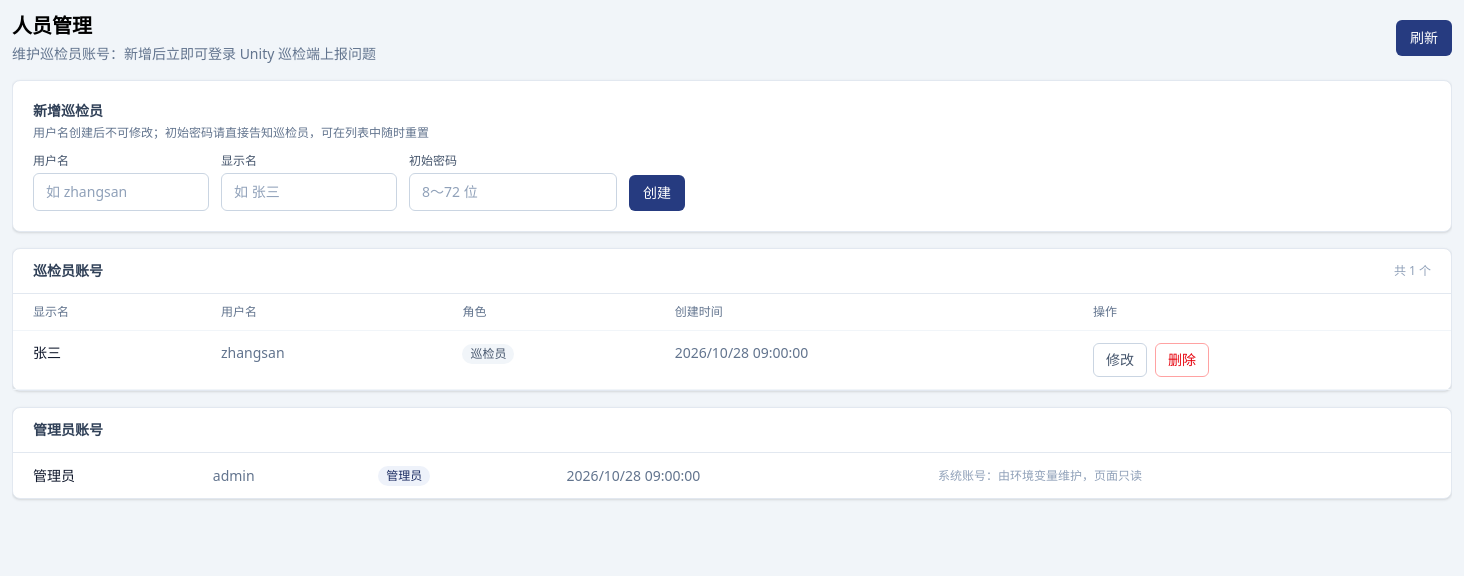
Test: 修改巡检员 › 显示名与密码都为空时本地拦截，不发请求
The width and height of the screenshot is (1464, 576).
Expected: the text "zhangsan" is shown, [205,330,446,390]
Click the button "修改" at (1120, 360), box [1093,343,1147,377]
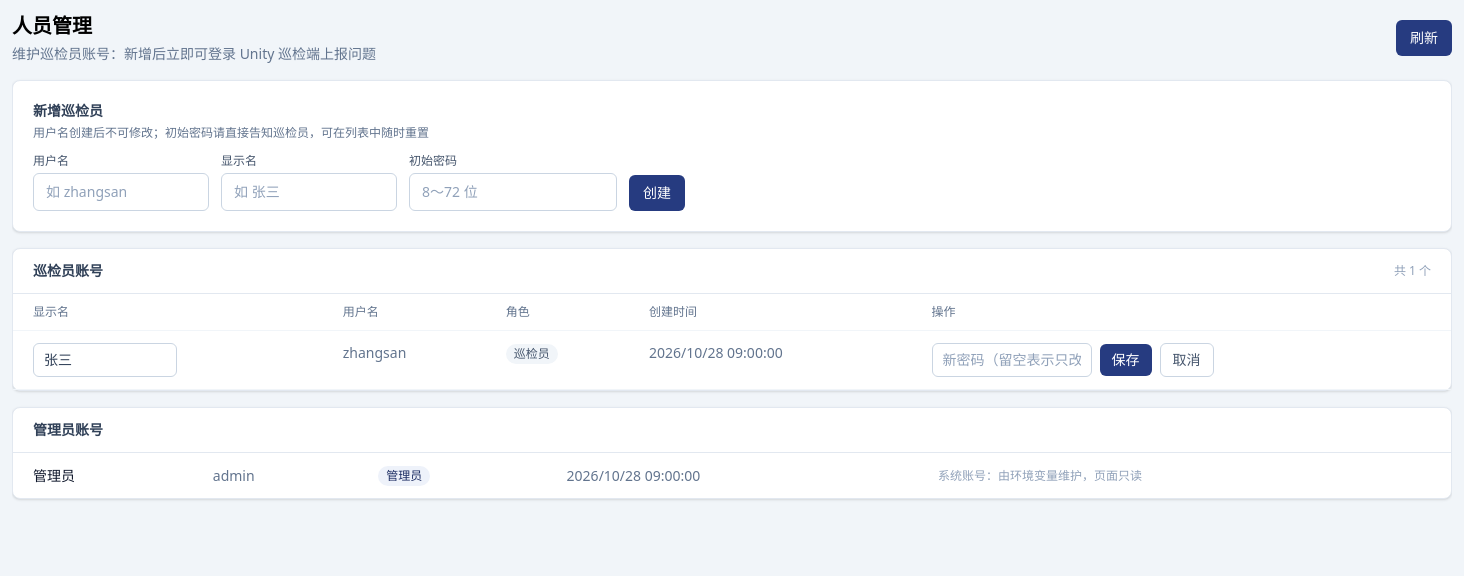
Clear the field named "修改「zhangsan」的显示名" at (105, 360), box [33,343,177,377]
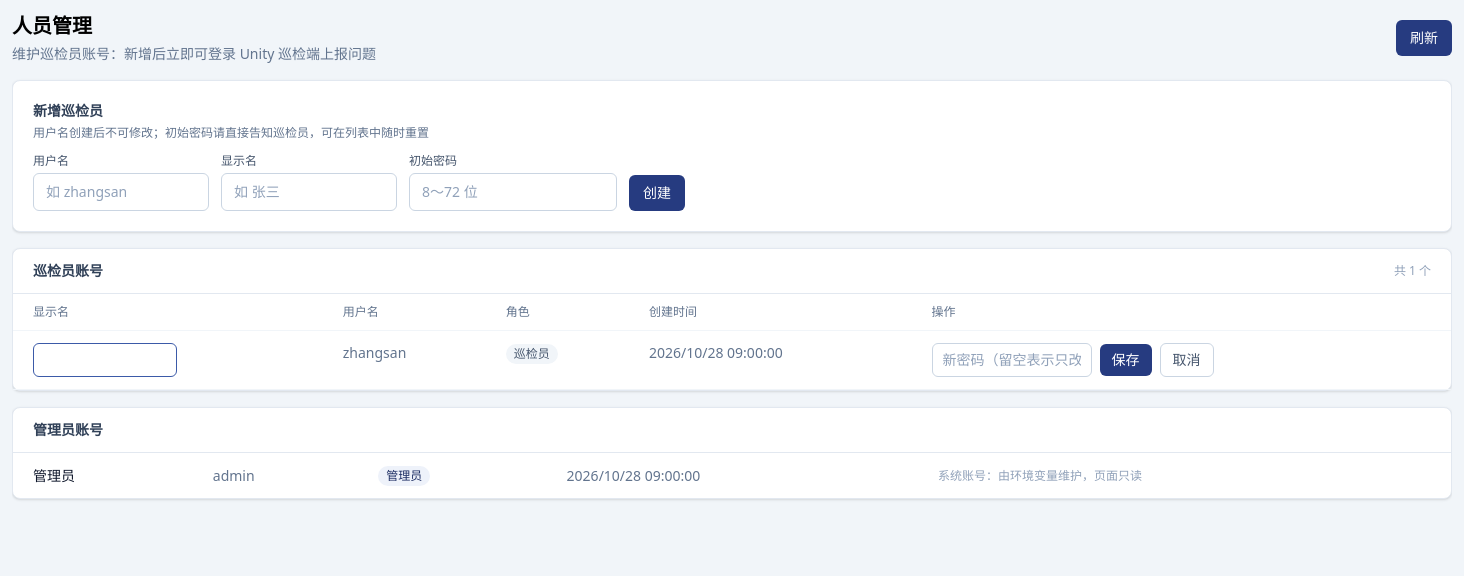
Click the button "保存" at (1126, 360), box [1100,344,1152,376]
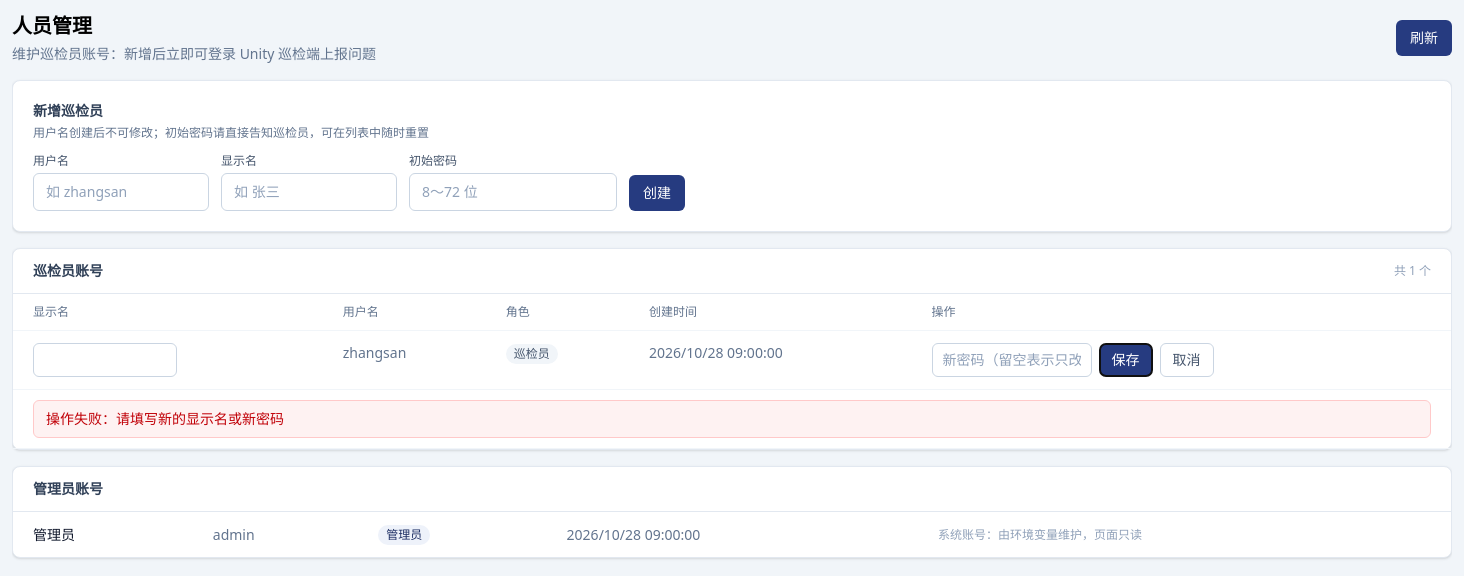
Expected: the text "操作失败：请填写新的显示名或新密码" is shown, [33,400,1431,438]
